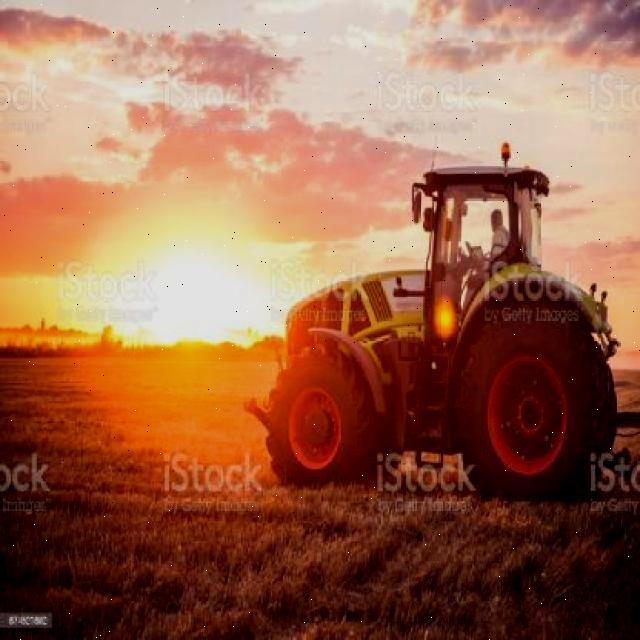Tratores - v5 YOLO V8L 2024-11-13: (226, 123, 632, 569)
